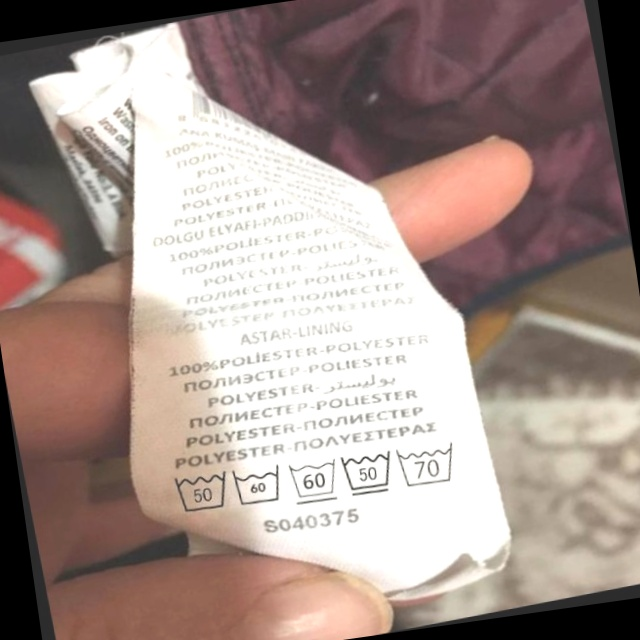50C: (166, 460, 237, 521), (336, 443, 402, 503)
60C: (285, 451, 347, 509), (228, 458, 291, 514)
70C: (394, 436, 467, 493)
